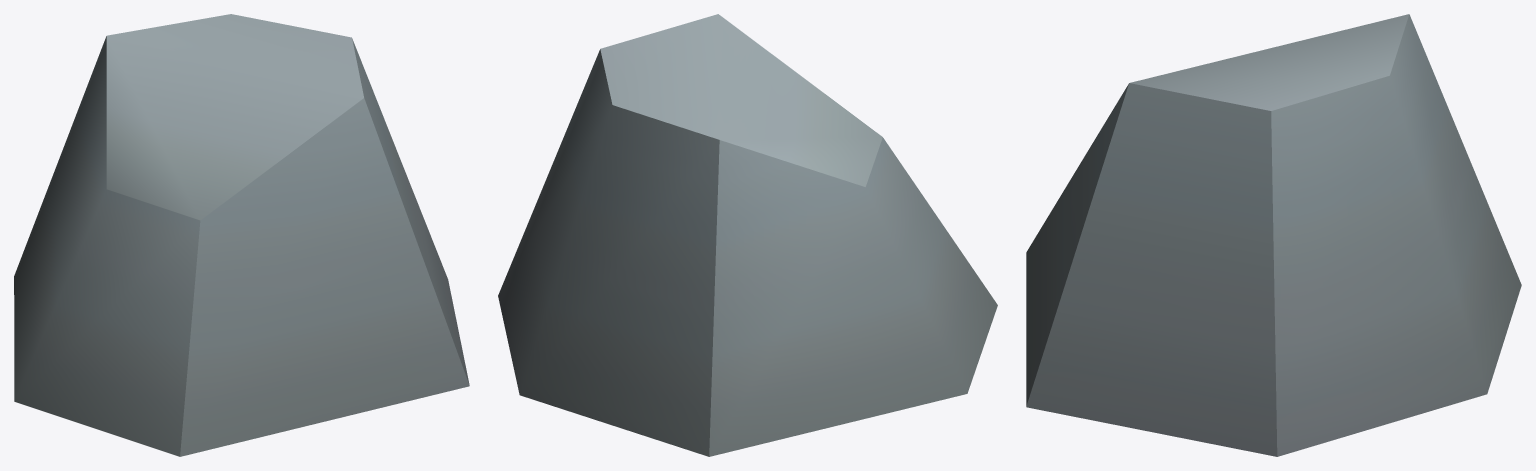
Rendered from rock-single-d.glb.
3 renders of one model, left to right at view 1: azimuth 30°, elevation 25°; view 2: azimuth 150°, elevation 25°; view 3: azimuth 270°, elevation 25°, orthographic. The views are drawn at different scales.
Parts seen in each view (by area): view 1: rock_single_D; view 2: rock_single_D; view 3: rock_single_D.
Boxes of the visible parts, x1,y1,x2,y2 form: rock_single_D: (14, 14, 469, 456); rock_single_D: (498, 14, 997, 456); rock_single_D: (1026, 14, 1521, 456).
Size of the model in its own units: 0.2866 by 0.1629 by 0.2497.
1 material, 1 textured.
